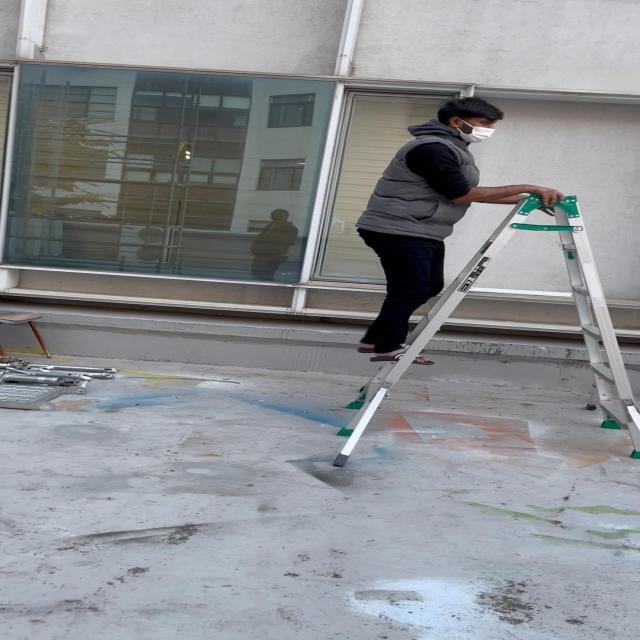boots: (330, 195, 640, 468)
vest: (352, 97, 564, 367)
